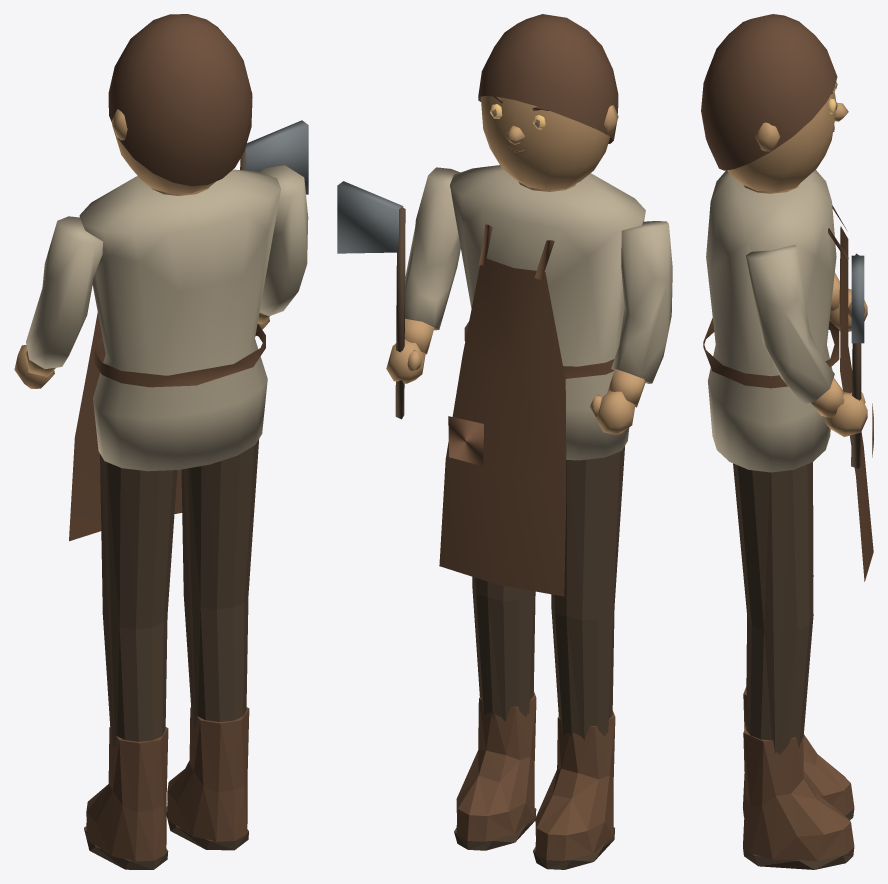
File: SM_NPC_ROCKY_MEDIA.glb
The picture shows the model from 3 angles, left to right: view 1: azimuth 30°, elevation 25°; view 2: azimuth 150°, elevation 25°; view 3: azimuth 270°, elevation 25°; orthographic projection. The views are drawn at different scales.
Parts seen in each view (by area): view 1: SM_NPC_ROCKY_BODY, SM_NPC_ROCKY_HEAD, SM_NPC_ROCKY_ARM_L, SM_NPC_ROCKY_ARM_R; view 2: SM_NPC_ROCKY_BODY, SM_NPC_ROCKY_HEAD, SM_NPC_ROCKY_ARM_R, SM_NPC_ROCKY_ARM_L; view 3: SM_NPC_ROCKY_BODY, SM_NPC_ROCKY_HEAD, SM_NPC_ROCKY_ARM_R, SM_NPC_ROCKY_ARM_L.
Part boxes in pixels (x1,y1,x2,y2): SM_NPC_ROCKY_BODY: (69, 169, 280, 869); SM_NPC_ROCKY_HEAD: (108, 14, 252, 193); SM_NPC_ROCKY_ARM_L: (14, 216, 103, 388); SM_NPC_ROCKY_ARM_R: (240, 120, 308, 336); SM_NPC_ROCKY_BODY: (439, 165, 645, 869); SM_NPC_ROCKY_HEAD: (478, 14, 618, 190); SM_NPC_ROCKY_ARM_R: (337, 167, 460, 419); SM_NPC_ROCKY_ARM_L: (589, 221, 672, 434); SM_NPC_ROCKY_BODY: (703, 170, 873, 869); SM_NPC_ROCKY_HEAD: (701, 14, 848, 191); SM_NPC_ROCKY_ARM_R: (746, 245, 867, 468); SM_NPC_ROCKY_ARM_L: (829, 272, 867, 331).
Size of the model in its own units: 0.688 by 1.81 by 0.3476.
